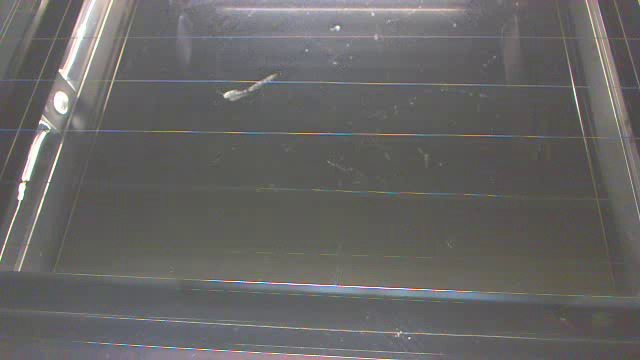alpha: (221, 72, 279, 104)
